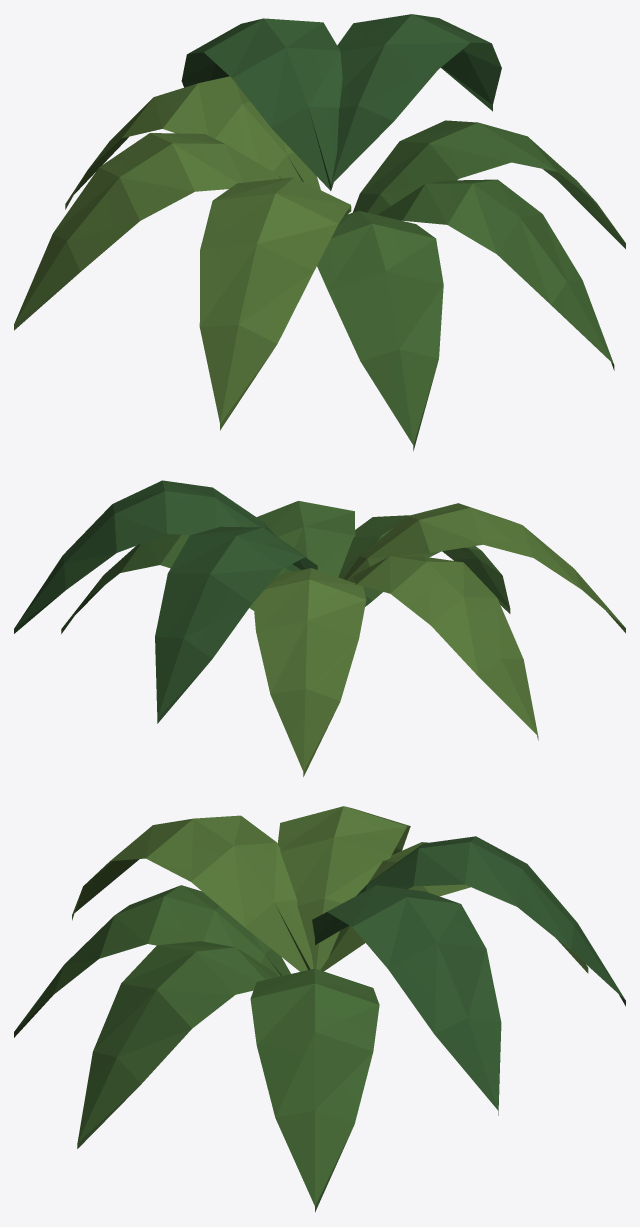
File: jungle-broadleaf.glb
3 renders of one model, top to bottom at view 1: azimuth 30°, elevation 25°; view 2: azimuth 150°, elevation 25°; view 3: azimuth 270°, elevation 25°, orthographic. The views are drawn at different scales.
Visible parts, largest first — view 1: Крупнолистный подлесок; view 2: Крупнолистный подлесок; view 3: Крупнолистный подлесок.
Part boxes in pixels (x1,y1,x2,y2): Крупнолистный подлесок: (14,14,625,451); Крупнолистный подлесок: (14,480,625,776); Крупнолистный подлесок: (14,806,625,1212).
Bounding box in the file's own units: 3.87 × 1.53 × 3.6.
